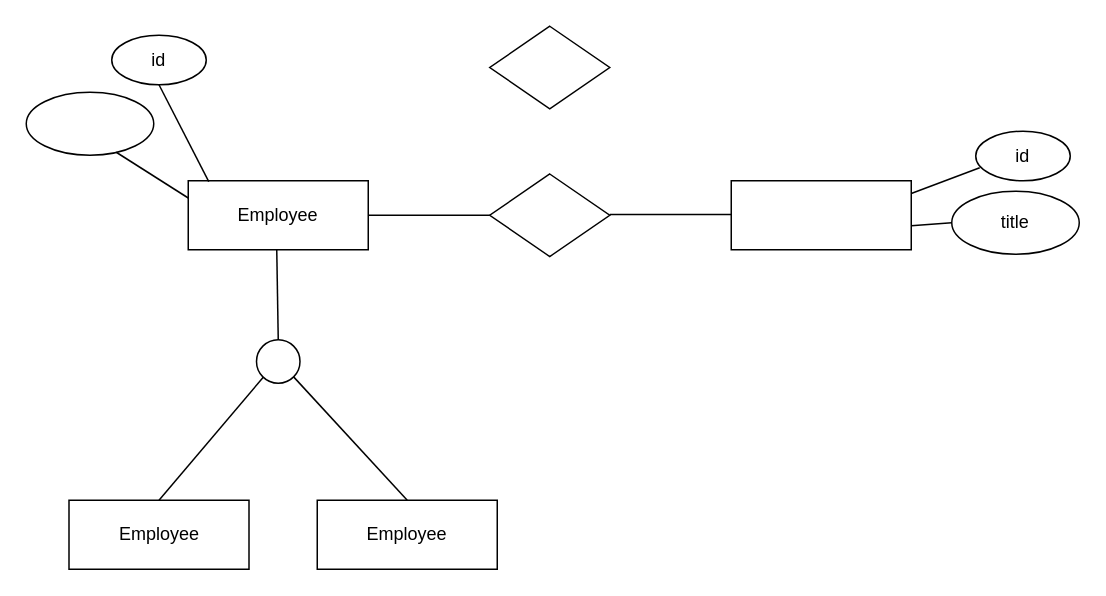
This 1106x596 diagram has some shape labels left out. Each missing label, with the centre of its shape:
"assinged" belongs at [549,214].
"Department" belongs at [820,214].
"name" belongs at [89,123].
